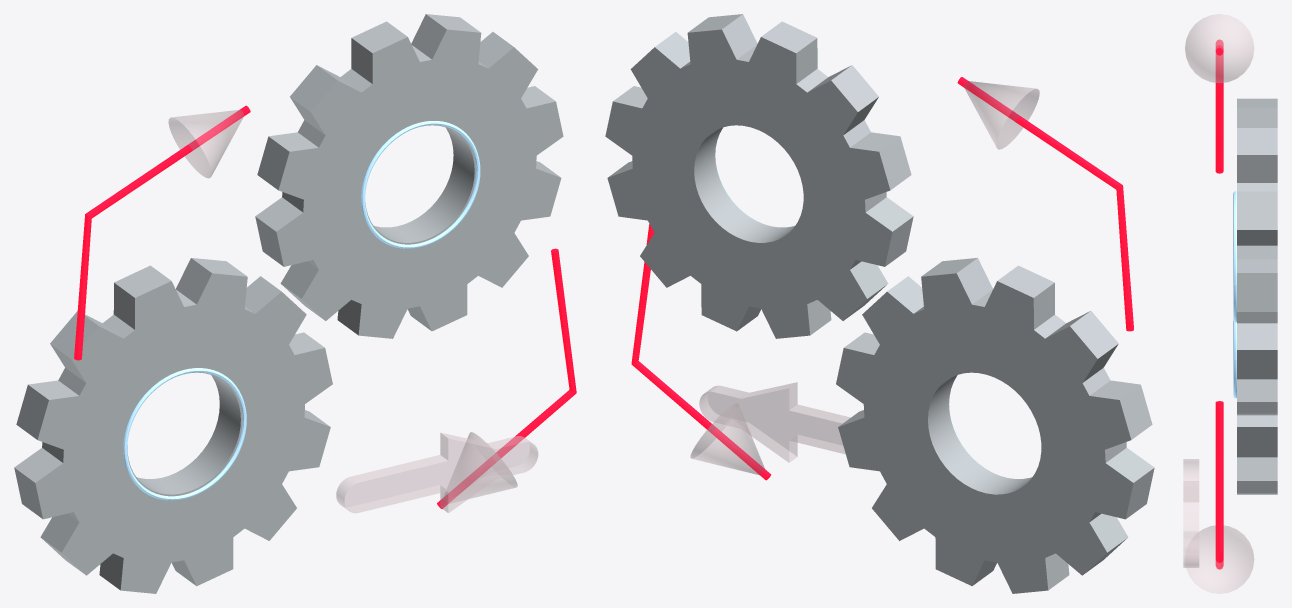
File: 13-etl-integration.glb
The picture shows the model from 3 angles, left to right: view 1: azimuth 30°, elevation 25°; view 2: azimuth 150°, elevation 25°; view 3: azimuth 270°, elevation 25°; orthographic projection. The views are drawn at different scales.
Visible parts, largest first — view 1: BC thin clear technical glass, BC subtle ruby technical glass, BC ruby signal edge, BC cool glass edge; view 2: BC thin clear technical glass, BC subtle ruby technical glass, BC ruby signal edge; view 3: BC thin clear technical glass, BC subtle ruby technical glass, BC ruby signal edge, BC cool glass edge.
Part boxes in pixels (left/top/right/bottom): BC thin clear technical glass: left=14, top=14, right=563, bottom=593; BC subtle ruby technical glass: left=168, top=110, right=538, bottom=513; BC ruby signal edge: left=74, top=105, right=576, bottom=508; BC cool glass edge: left=123, top=121, right=480, bottom=500; BC thin clear technical glass: left=605, top=14, right=1154, bottom=593; BC subtle ruby technical glass: left=690, top=81, right=1039, bottom=475; BC ruby signal edge: left=631, top=77, right=1133, bottom=480; BC thin clear technical glass: left=1237, top=98, right=1277, bottom=494; BC subtle ruby technical glass: left=1183, top=14, right=1254, bottom=593; BC ruby signal edge: left=1215, top=39, right=1223, bottom=569; BC cool glass edge: left=1233, top=191, right=1236, bottom=398.
Bounding box in the file's own units: 2.03 × 1.82 × 0.325.
